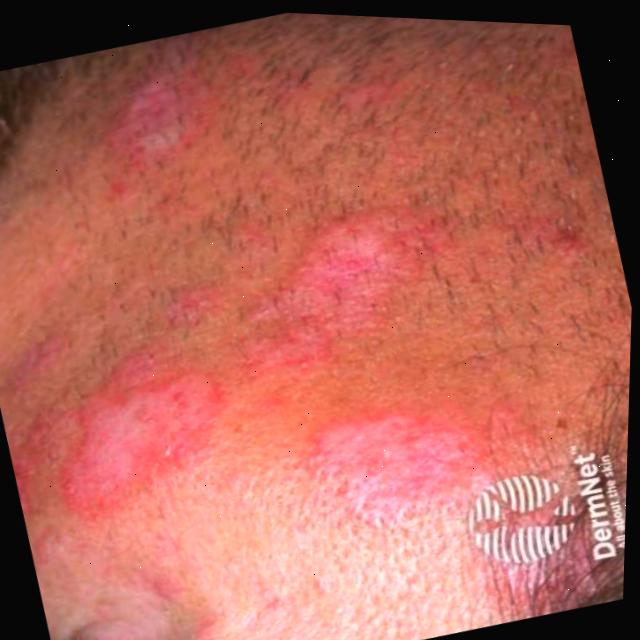lupus-detected: (216, 72, 553, 583), (0, 221, 289, 559), (55, 17, 264, 229)
